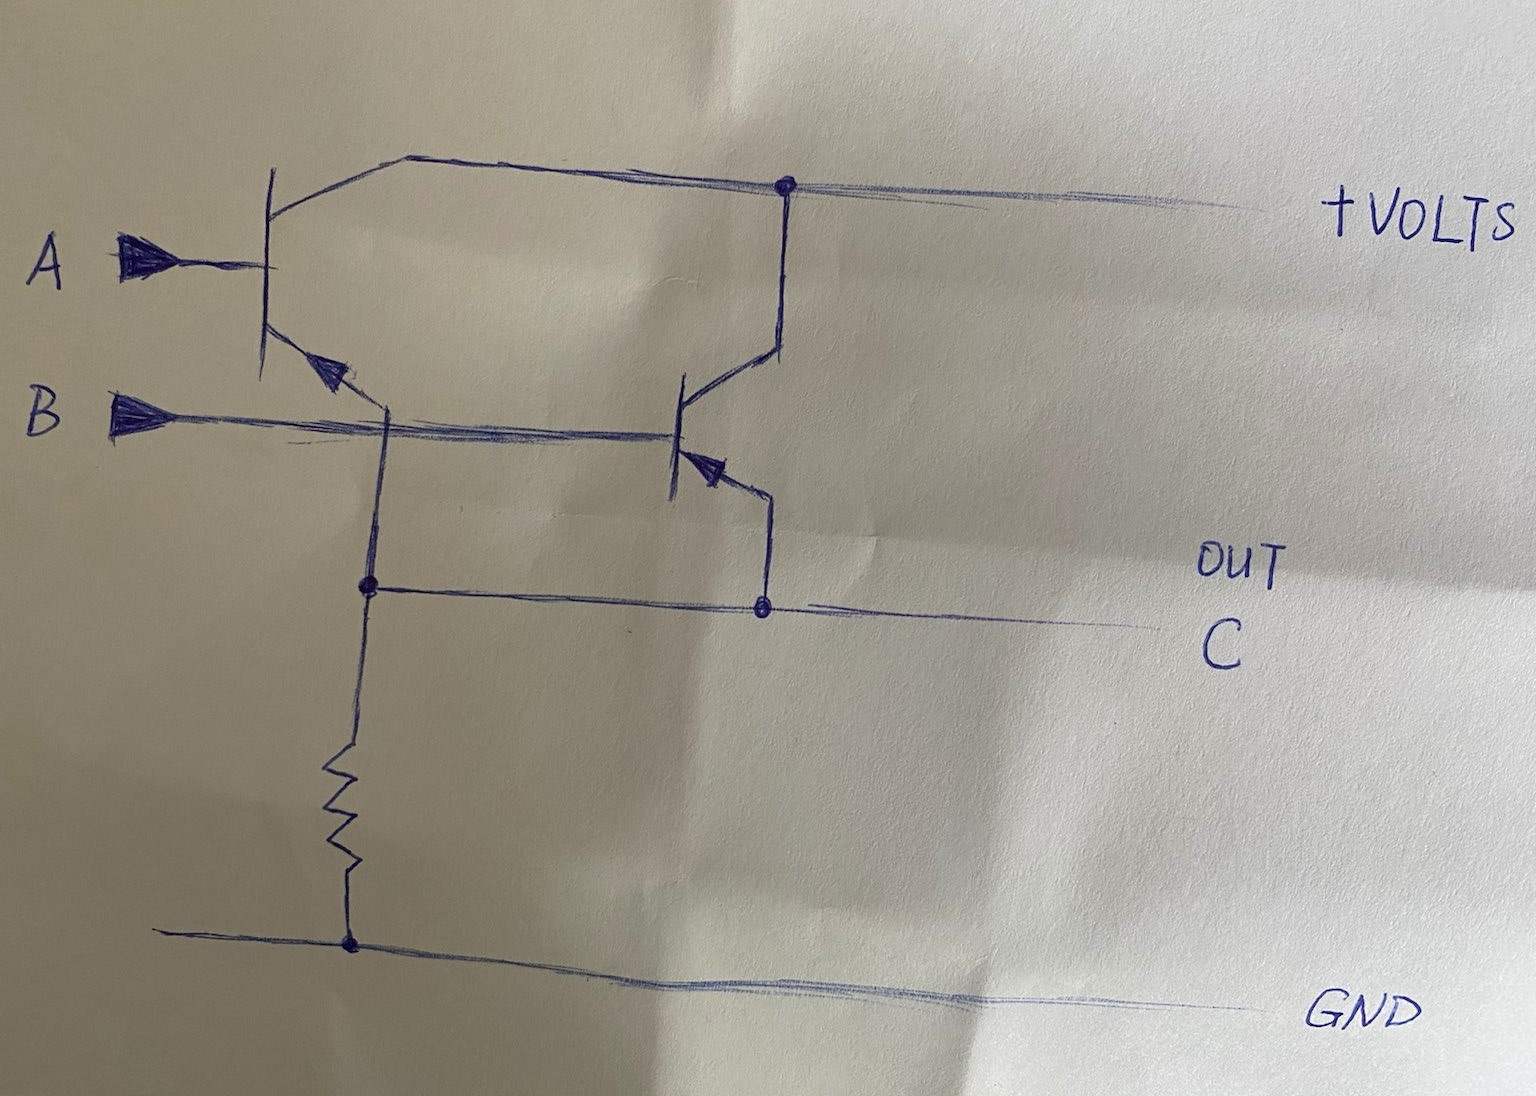crossover: (367, 413, 408, 461)
junction: (735, 582, 789, 635), (344, 552, 390, 611), (325, 915, 372, 970), (765, 165, 808, 217)
resistor: (314, 734, 385, 882)
terminal: (1124, 181, 1283, 235), (93, 380, 191, 446), (104, 222, 195, 289), (1082, 600, 1188, 656), (1185, 974, 1285, 1030), (138, 906, 227, 958)
text: (1368, 173, 1523, 255), (1302, 980, 1428, 1041), (1196, 528, 1290, 593), (1200, 611, 1254, 678), (20, 374, 64, 444), (26, 225, 68, 294), (1319, 180, 1357, 242)
transistor: (244, 129, 426, 412), (648, 334, 801, 511)
